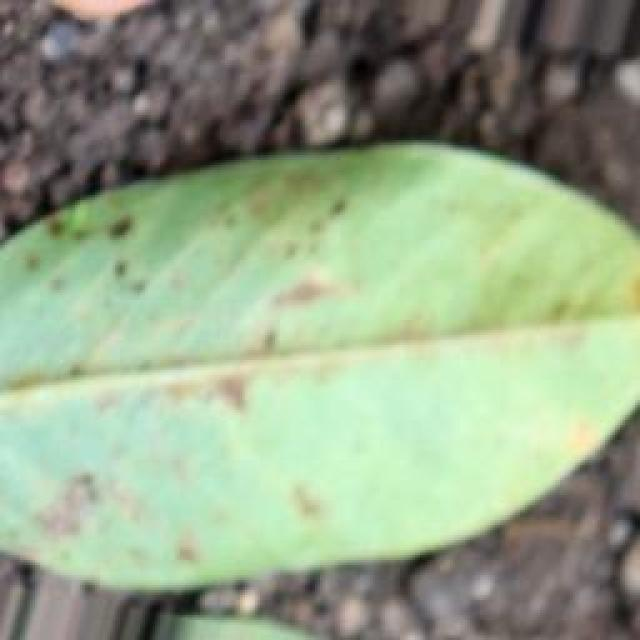Whitefly: (0, 180, 539, 579)
